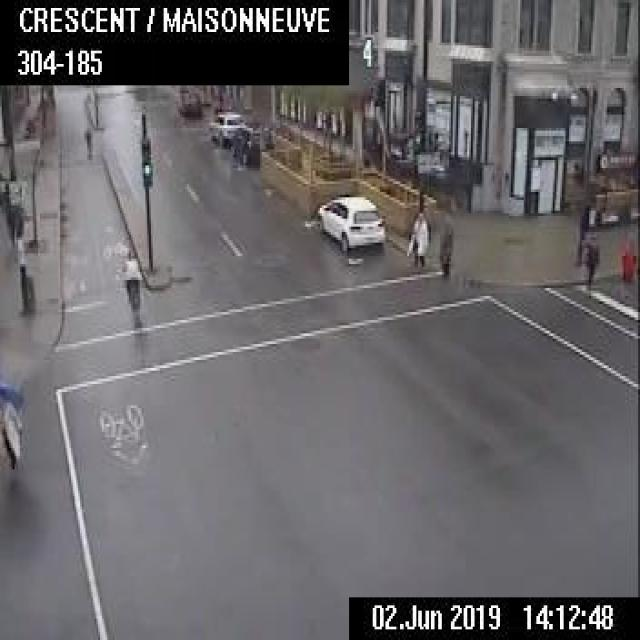cyclist: (120, 250, 140, 320), (82, 125, 91, 160)
pedestrian: (0, 381, 20, 475), (2, 190, 25, 262), (405, 208, 429, 269), (437, 211, 452, 277), (582, 232, 596, 285)
vehicle: (314, 192, 386, 253), (230, 123, 274, 164), (207, 110, 246, 146), (176, 88, 202, 117)
